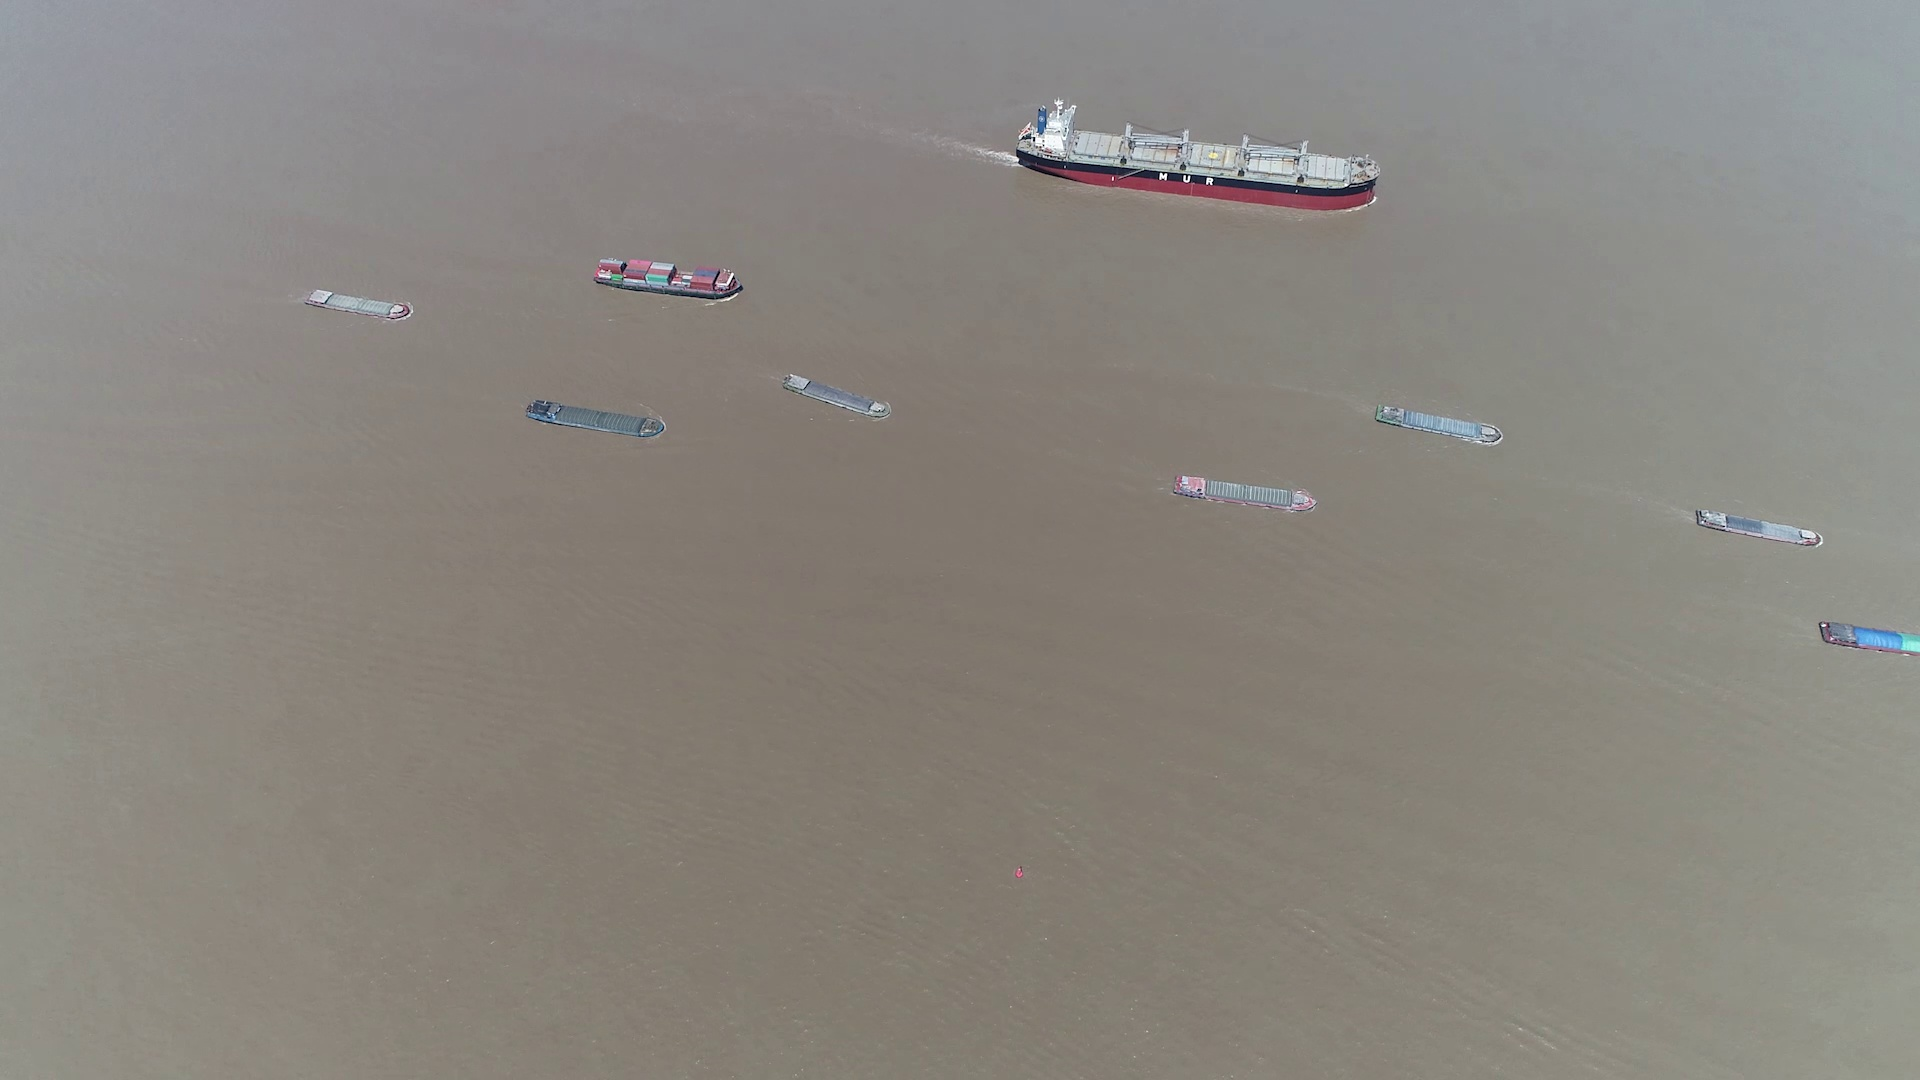ship: (1015, 102, 1375, 207), (592, 256, 744, 298), (525, 400, 665, 440), (1170, 473, 1317, 512), (1692, 506, 1822, 549), (1375, 404, 1505, 444), (783, 373, 891, 421), (1816, 618, 1919, 659), (305, 286, 413, 320)
